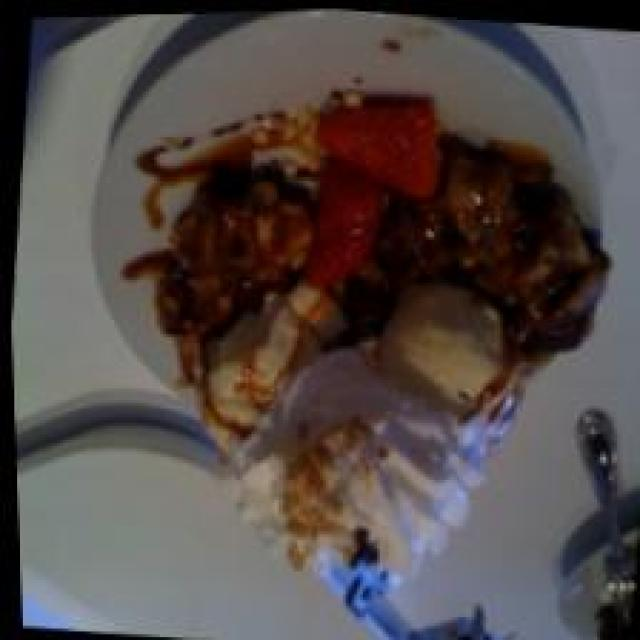Waffles: (130, 107, 627, 456)
